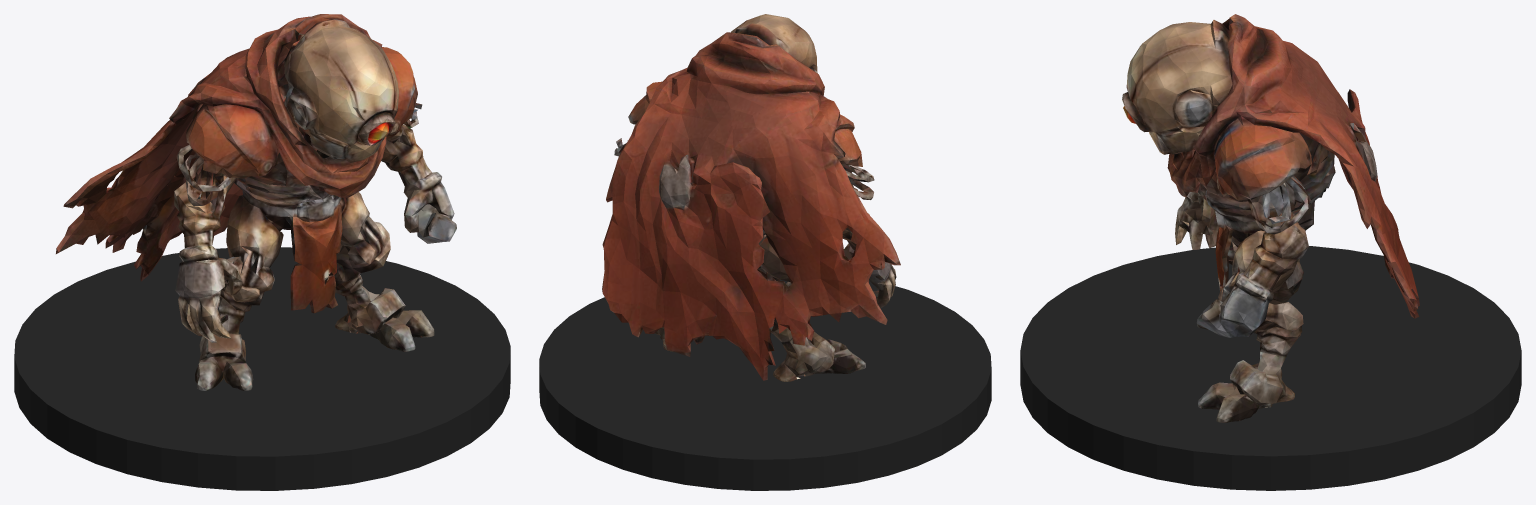
The model's file is hc-sicarian-ruststalker-warrior.glb.
3 views of the same model, side by side, from view 1: azimuth 30°, elevation 25°; view 2: azimuth 150°, elevation 25°; view 3: azimuth 270°, elevation 25° (orthographic). The views are drawn at different scales.
Parts seen in each view (by area): view 1: base, figure; view 2: figure, base; view 3: base, figure.
Boxes of the visible parts, x1=… form: base: x1=14, y1=247, x2=510, y2=490; figure: x1=56, y1=14, x2=456, y2=390; figure: x1=602, y1=14, x2=900, y2=381; base: x1=539, y1=279, x2=991, y2=490; base: x1=1020, y1=246, x2=1521, y2=490; figure: x1=1122, y1=14, x2=1419, y2=422.
Bounding box in the file's own units: 1.57 × 1.32 × 1.57.
2 materials, 1 textured.
